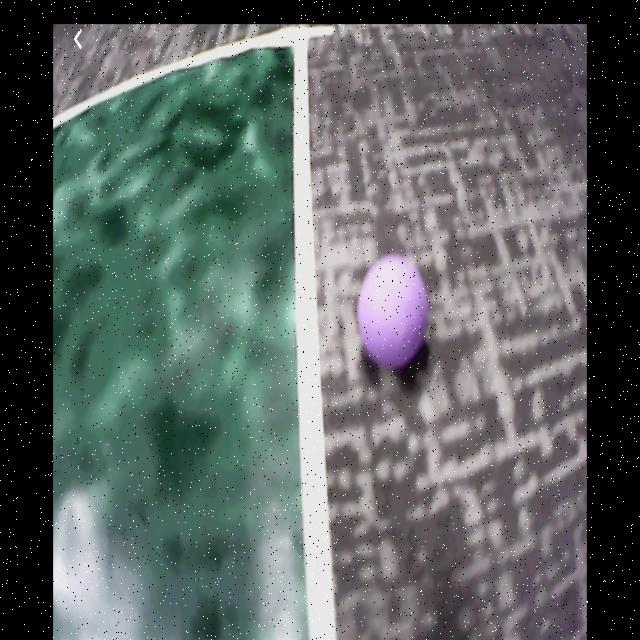ball: (357, 253, 430, 371)
